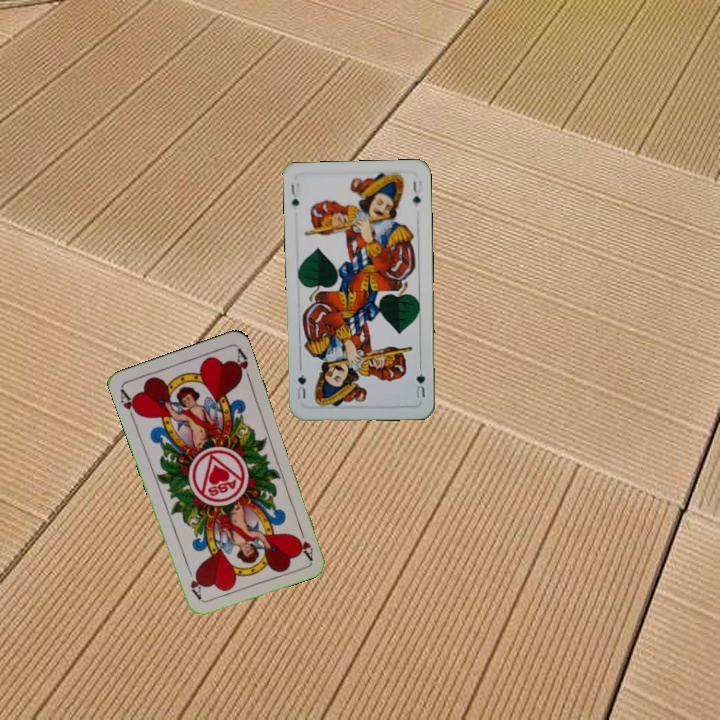GU: (412, 369, 428, 400), (287, 179, 303, 209)
HA: (116, 385, 143, 424), (293, 522, 316, 562)
